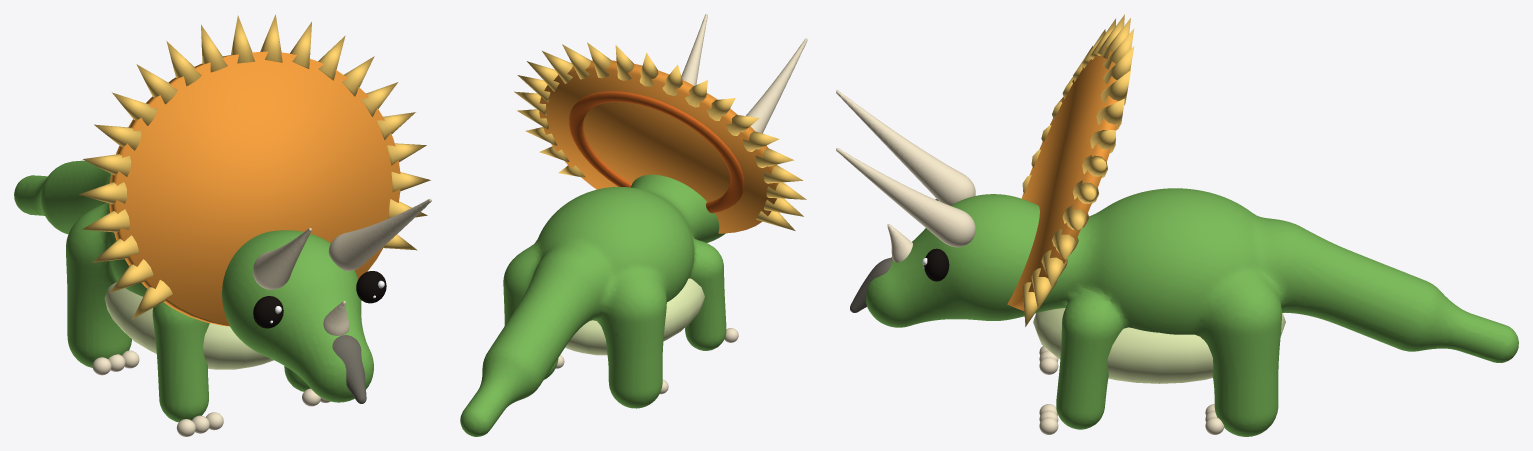
File: triceratops.fbx
The picture shows the model from 3 angles, left to right: view 1: azimuth 30°, elevation 25°; view 2: azimuth 150°, elevation 25°; view 3: azimuth 270°, elevation 25°; orthographic projection. The views are drawn at different scales.
Visible parts, largest first — view 1: Cylinder, tri_corpo, Sphere, chifre43, chifre42, chifre41, Sphere.013, Sphere.016, Cone.017, Cone.016, Cone.018, Cone.019 (+17 smaller); view 2: tri_corpo, Cylinder, Torus, Sphere, chifre42, chifre43, Cone.008, Cone.017, Cone.009, Cone.016, Cone.018, Cone.007 (+11 smaller); view 3: tri_corpo, Cylinder, Sphere, chifre42, chifre43, chifre41, Sphere.016.
Boxes of the visible parts, <box> form: Cylinder: <box>109,51,400,326</box>; tri_corpo: <box>14,160,373,422</box>; Sphere: <box>104,282,273,369</box>; chifre43: <box>328,198,431,271</box>; chifre42: <box>253,228,311,289</box>; chifre41: <box>332,335,366,403</box>; Sphere.013: <box>253,296,283,328</box>; Sphere.016: <box>356,271,386,303</box>; Cone.017: <box>78,182,127,204</box>; Cone.016: <box>83,154,131,176</box>; Cone.018: <box>82,209,129,232</box>; Cone.019: <box>92,235,138,262</box>; tri_corpo: <box>460,174,726,436</box>; Cylinder: <box>539,60,778,233</box>; Torus: <box>569,91,744,213</box>; Sphere: <box>565,278,704,355</box>; chifre42: <box>746,38,807,133</box>; chifre43: <box>681,14,707,85</box>; Cone.008: <box>562,44,590,79</box>; Cone.017: <box>755,148,794,167</box>; Cone.009: <box>587,42,611,78</box>; Cone.016: <box>743,131,779,151</box>; Cone.018: <box>763,165,802,183</box>; Cone.007: <box>542,51,572,83</box>; tri_corpo: <box>866,188,1518,436</box>; Cylinder: <box>1007,46,1118,310</box>; Sphere: <box>1033,308,1285,383</box>; chifre42: <box>836,90,975,205</box>; chifre43: <box>836,148,975,247</box>; chifre41: <box>850,257,892,312</box>; Sphere.016: <box>924,248,949,281</box>.
Bounding box in the file's own units: 2.49 × 2.56 × 4.32.
